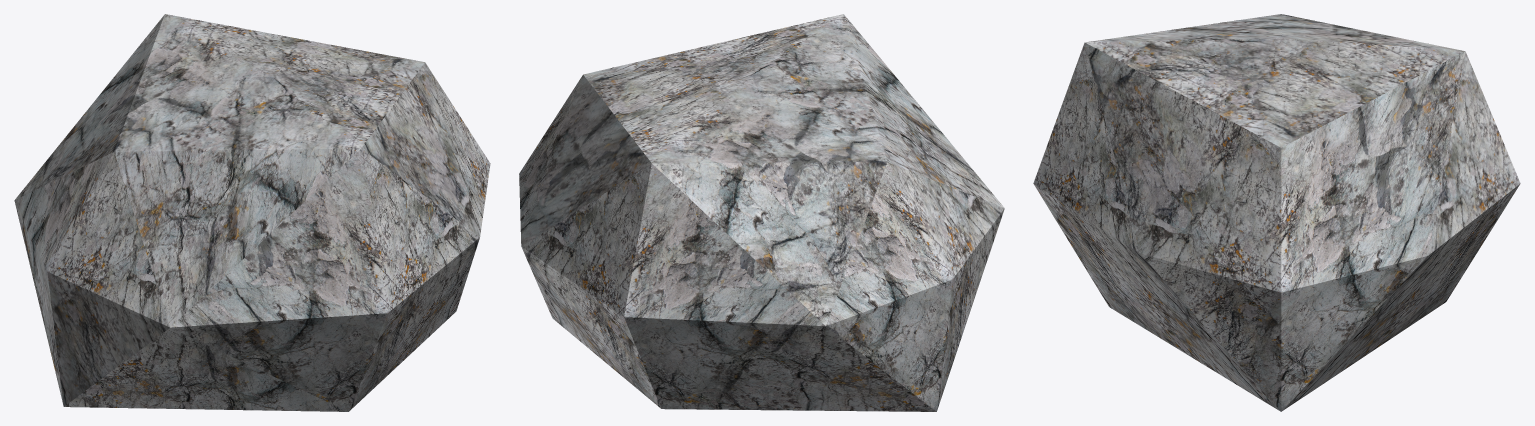
Rendered from fractured_granite_far.gltf.
3 renders of one model, left to right at view 1: azimuth 30°, elevation 25°; view 2: azimuth 150°, elevation 25°; view 3: azimuth 270°, elevation 25°, orthographic. The views are drawn at different scales.
Parts seen in each view (by area): view 1: fractured_granite_far; view 2: fractured_granite_far; view 3: fractured_granite_far.
Part boxes in pixels (bbox=[...]): fractured_granite_far: bbox=[14, 14, 490, 411]; fractured_granite_far: bbox=[519, 14, 1004, 411]; fractured_granite_far: bbox=[1033, 14, 1520, 411].
Bounding box in the file's own units: 2.21 × 1.49 × 2.17.
1 material, 1 textured.
